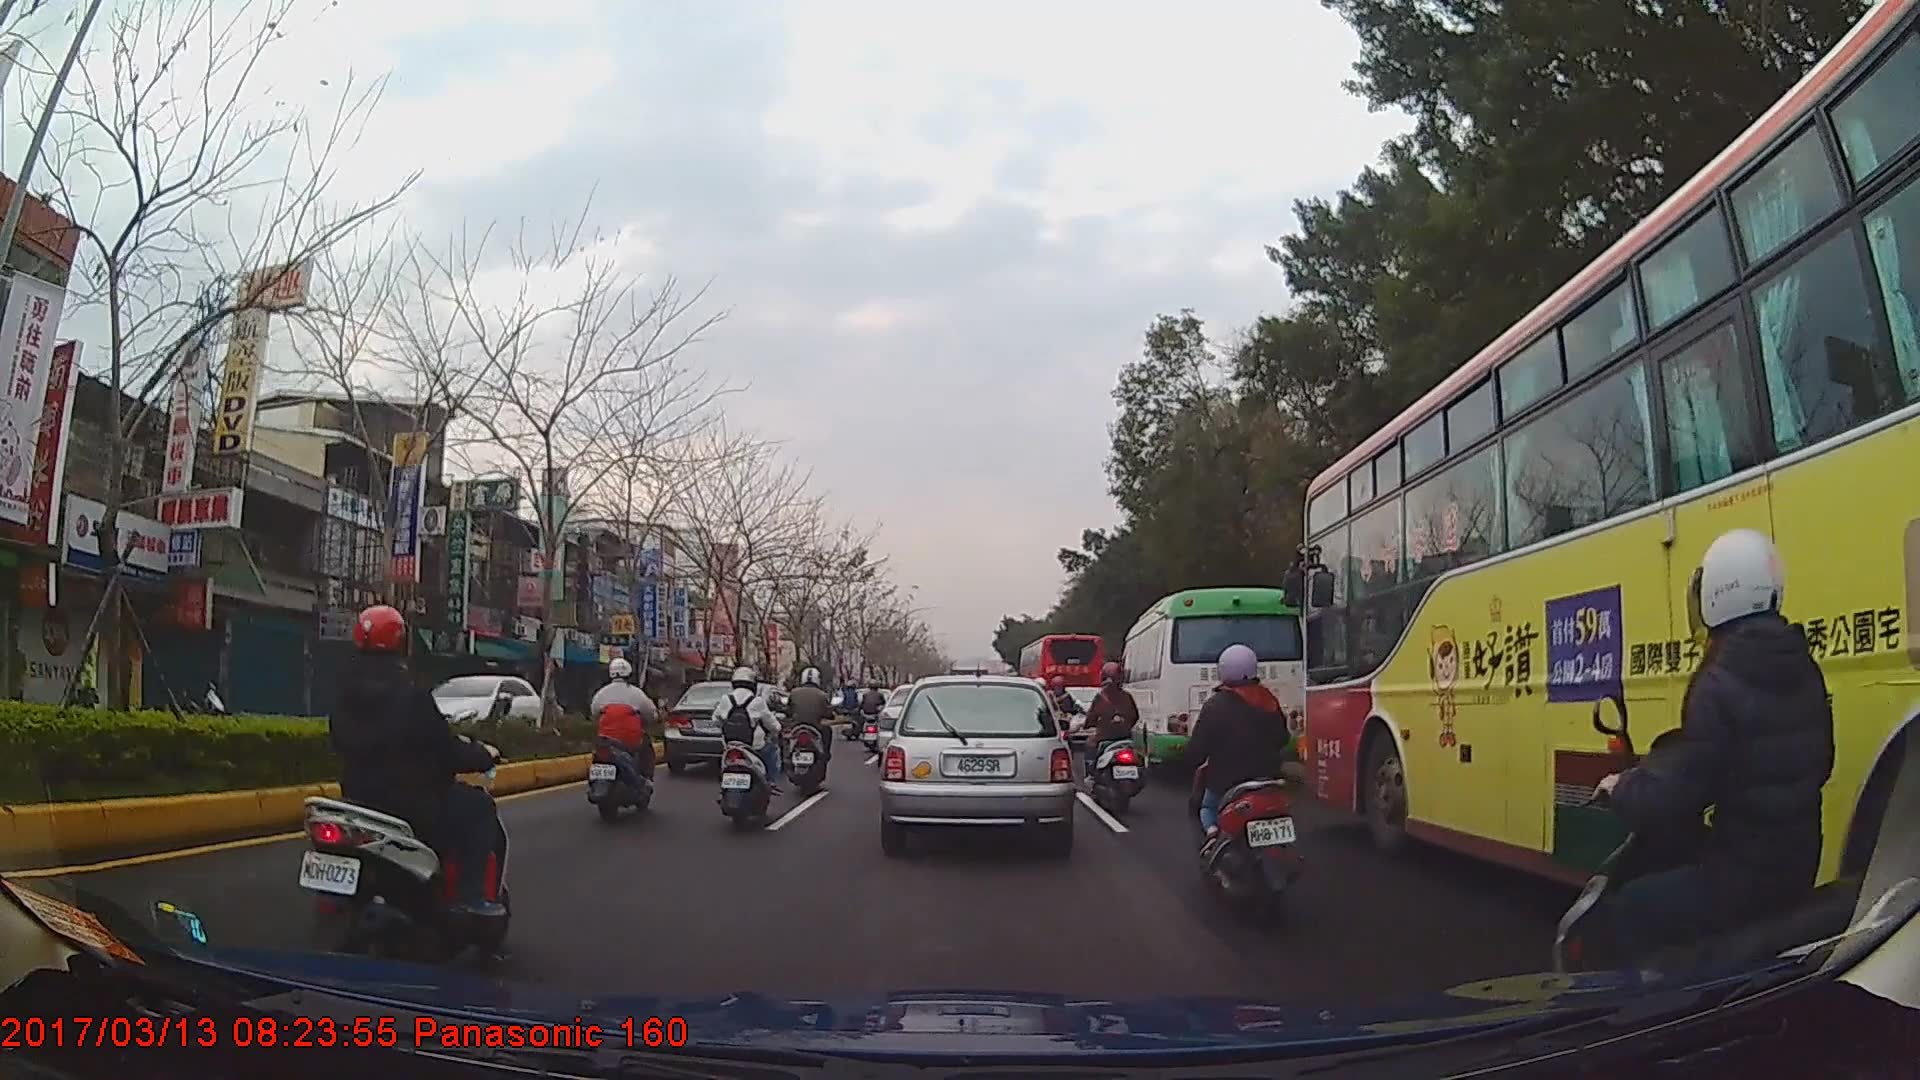rider: (1554, 528, 1904, 1037), (298, 600, 508, 974), (1183, 642, 1307, 928), (591, 656, 661, 820), (716, 666, 785, 828), (1085, 664, 1145, 803), (783, 667, 841, 797), (860, 681, 889, 753), (842, 681, 863, 723)
vehicle: (1302, 0, 1920, 1003), (1115, 584, 1309, 773), (878, 673, 1074, 849), (390, 667, 555, 760), (662, 679, 800, 780), (1016, 631, 1105, 742)
